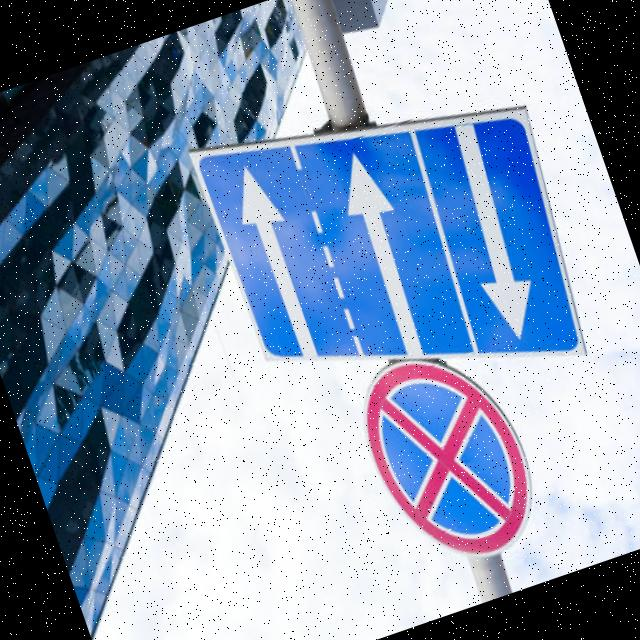no_parking: (340, 332, 559, 594)
